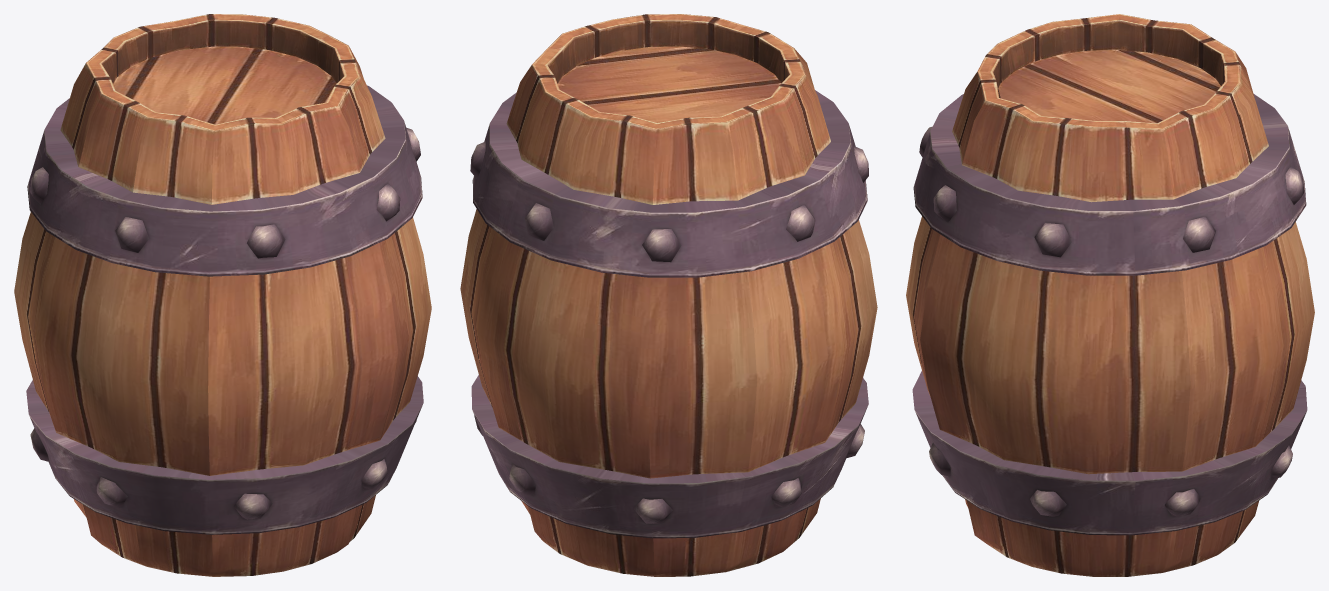
File: barrel_stage4.glb
The picture shows the model from 3 angles, left to right: view 1: azimuth 30°, elevation 25°; view 2: azimuth 150°, elevation 25°; view 3: azimuth 270°, elevation 25°; orthographic projection.
Parts seen in each view (by area): view 1: barrel_blockout; view 2: barrel_blockout; view 3: barrel_blockout.
Boxes of the visible parts, bbox=[...] form: barrel_blockout: bbox=[14, 14, 431, 576]; barrel_blockout: bbox=[460, 14, 877, 576]; barrel_blockout: bbox=[906, 14, 1314, 576].
Size of the model in its own units: 0.7928 by 0.9529 by 0.7873.
Materials: 1 (1 with a texture image).
